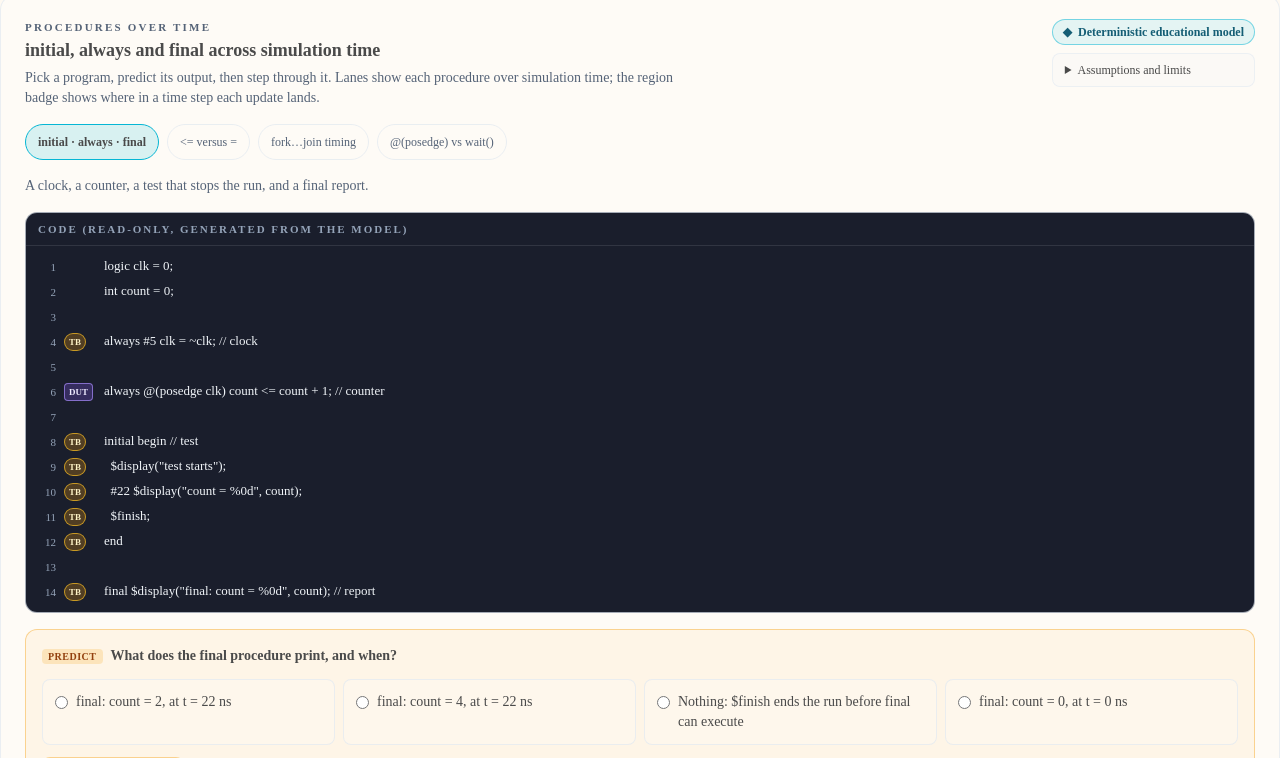
ProceduralBlocksSimulator › is read-only and gates the run behind a prediction
Click the radio button labelled "final: count = 2, at t = 22 ns" at coordinates (62, 702), box x1=55 y1=696 x2=68 y2=709
(page scrolled)
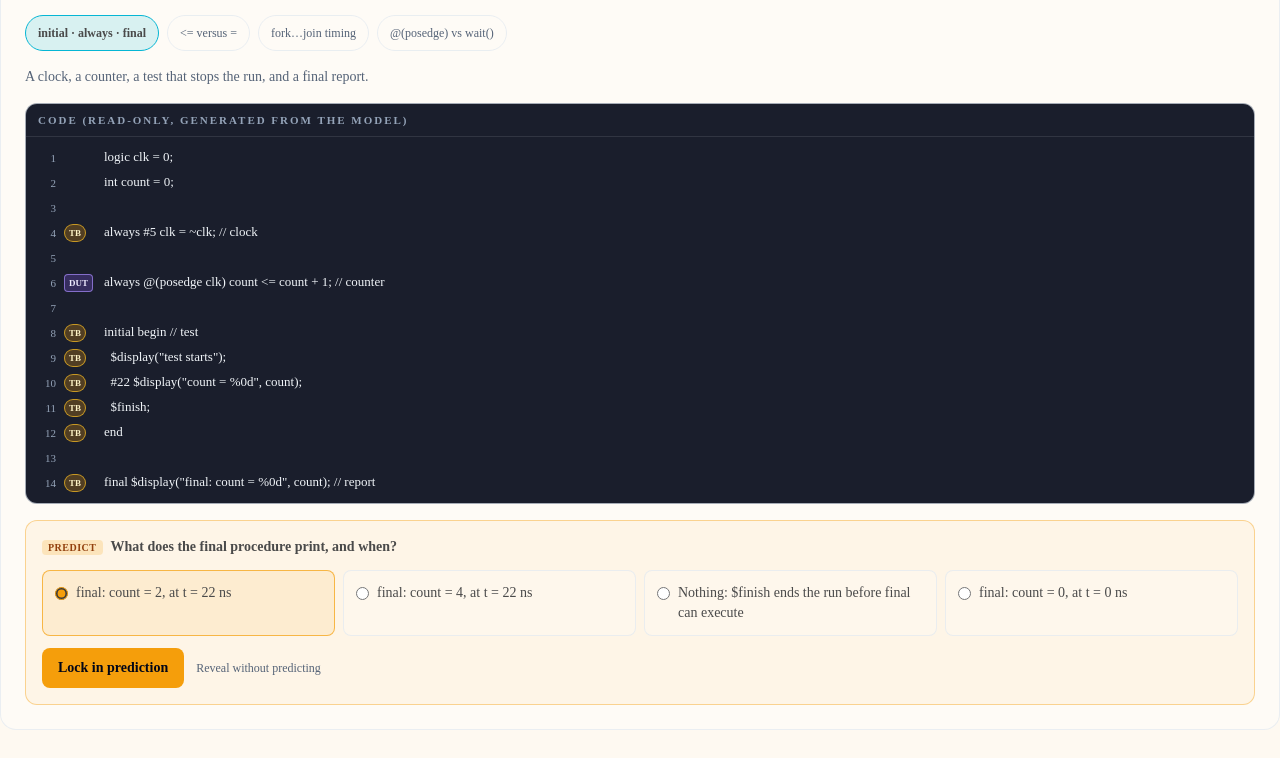
Click the button "Lock in prediction" at coordinates (113, 668), box x1=42 y1=648 x2=184 y2=688
(page scrolled)
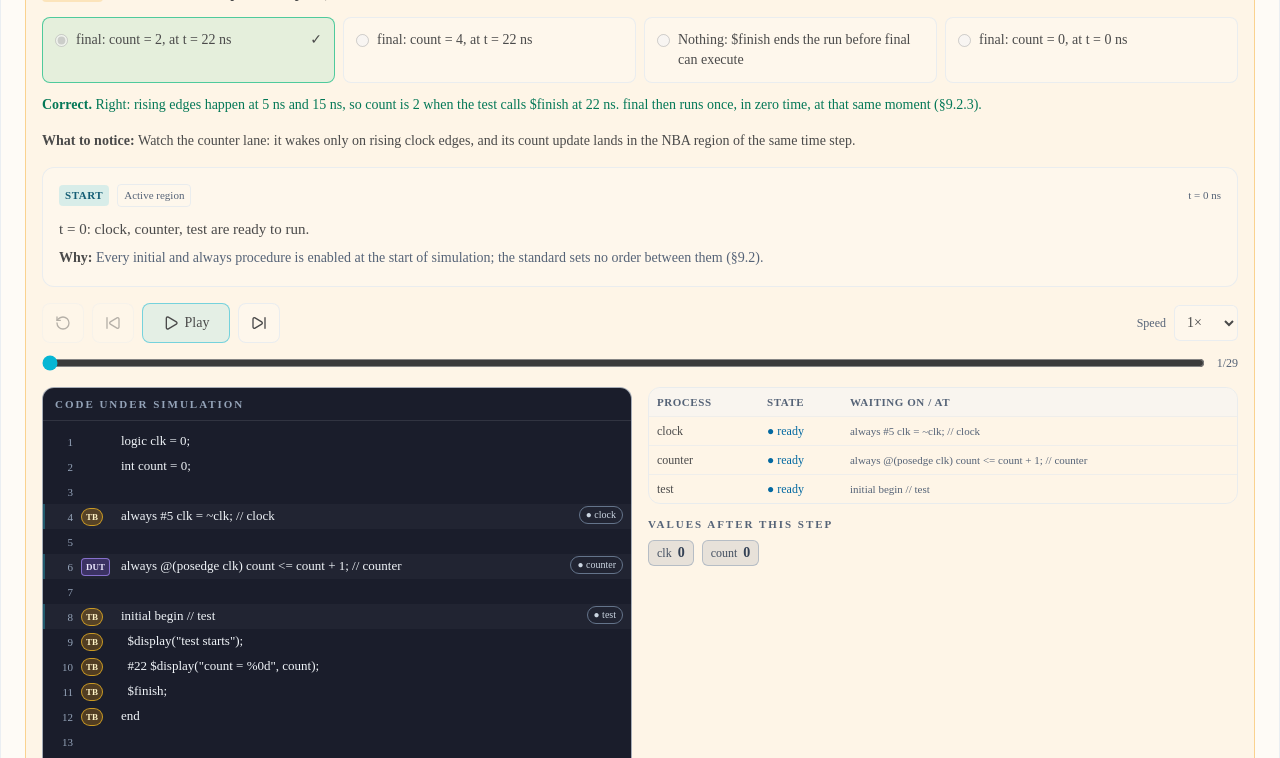
Expected: the text "Correct." is shown, x1=42 y1=97 x2=95 y2=112
Set the slider named "process step scrubber" to "28" at coordinates (1197, 363), box x1=42 y1=359 x2=1205 y2=367
(page scrolled)
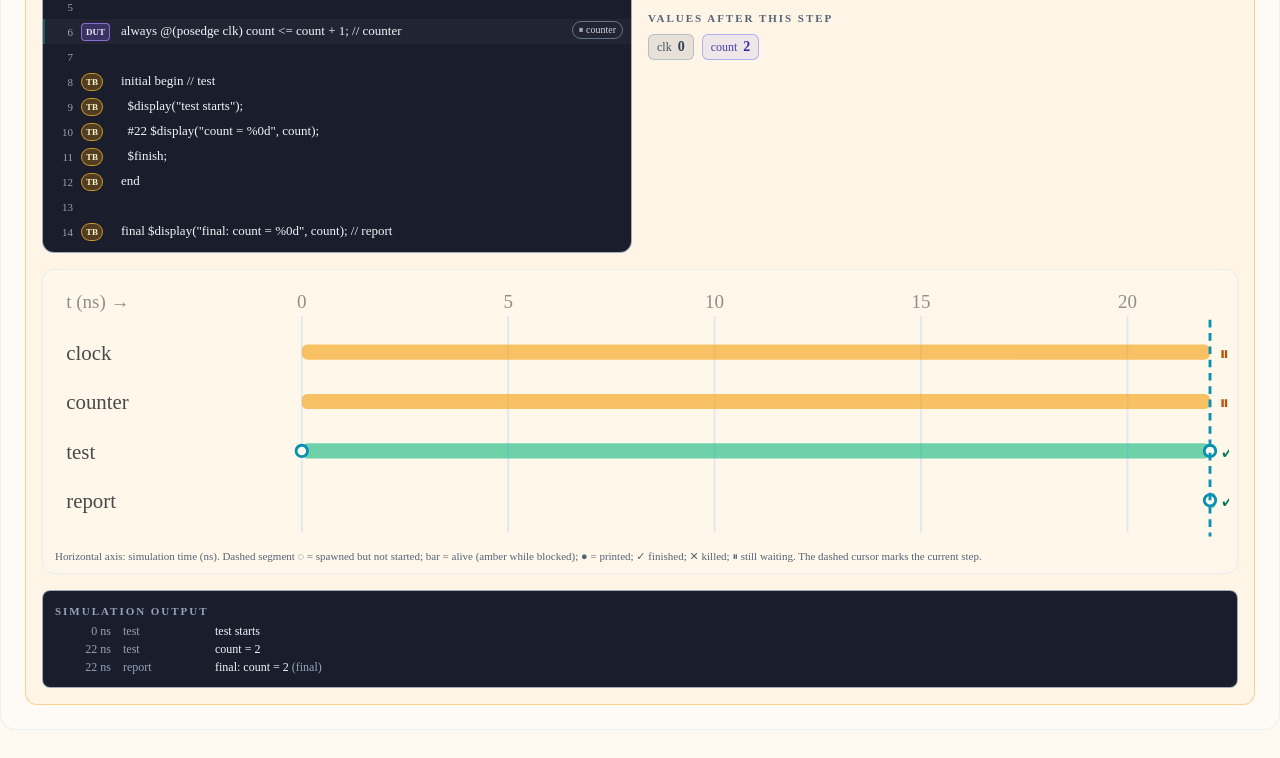
Expected: the list item "22 ns report final: count = 2 (final)" is shown, x1=85 y1=660 x2=322 y2=674
